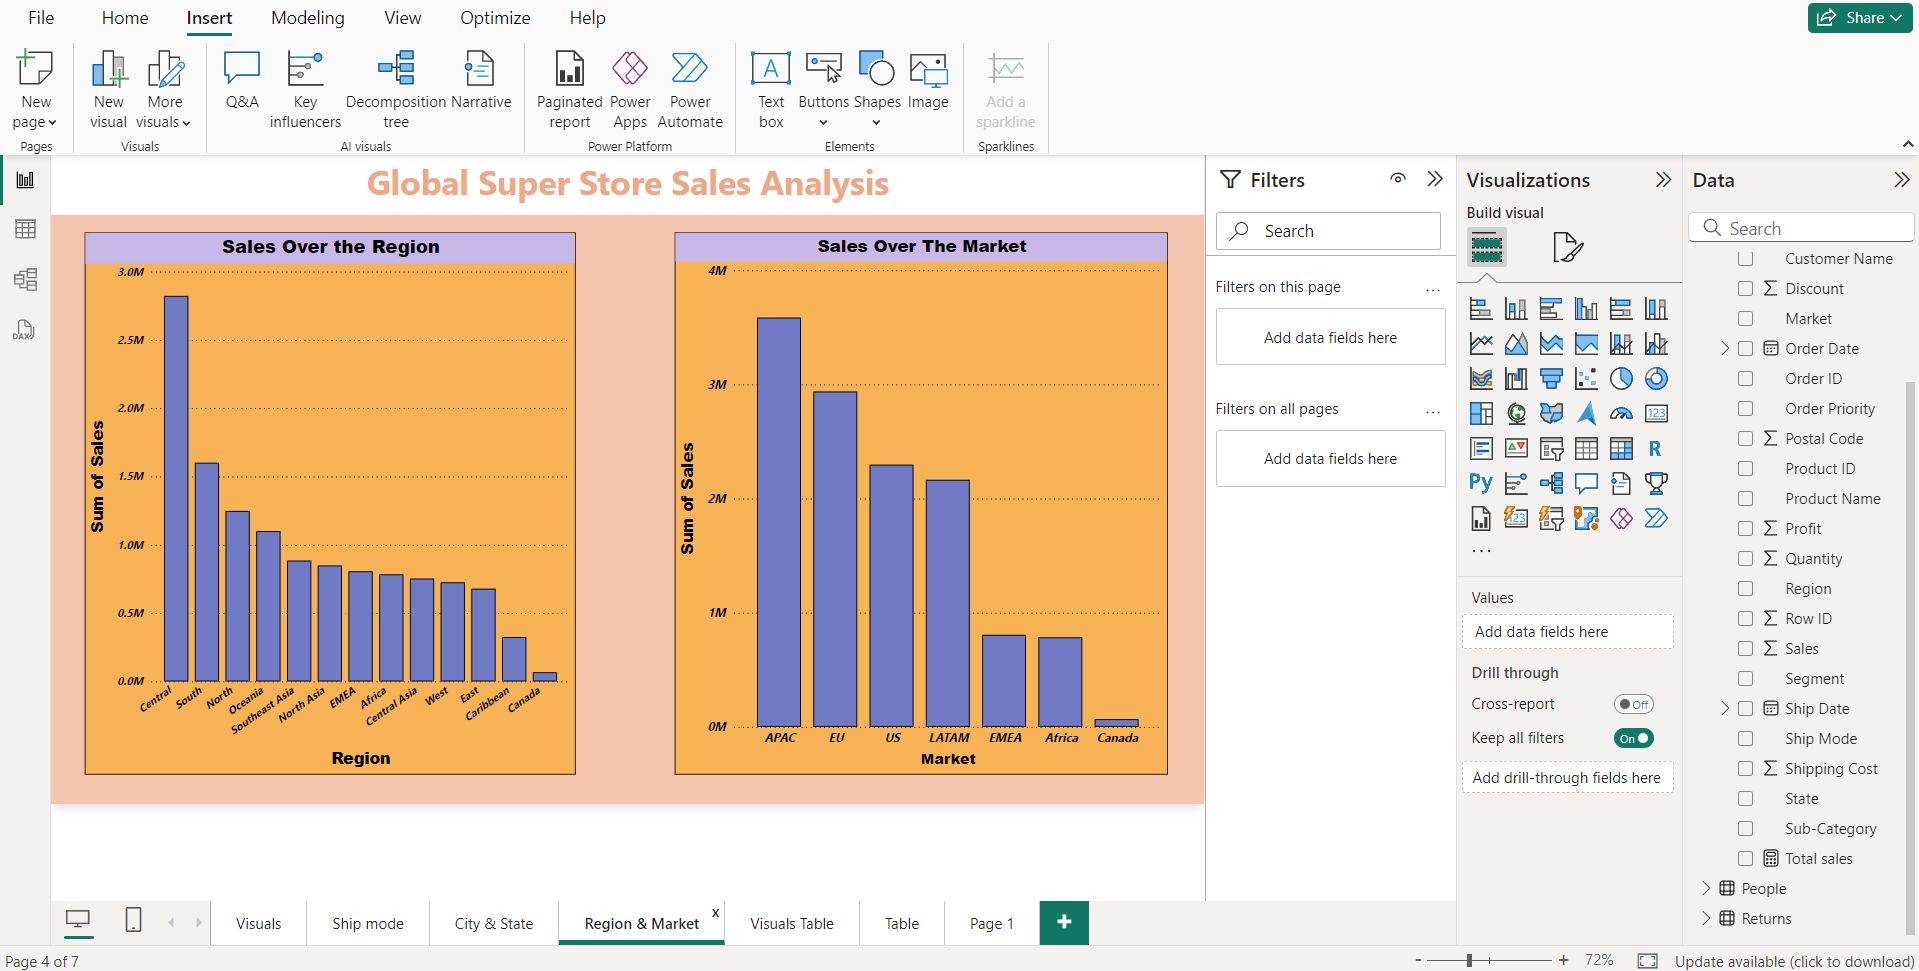

What the dashboard file says about the page in this screenshot:
{"tool":"powerbi","page":{"name":"Region & Market","canvas":[1280,720],"ordinal":3},"visuals":[{"type":"columnChart","title":"Sales Over the Region","fields":{"Y":["Sum(Orders.Sales)"],"Category":["Orders.Region"]},"box":[37.4,85.9,544.5,601.3],"z":0},{"type":"columnChart","title":"Sales Over The Market","fields":{"Y":["Sum(Orders.Sales)"],"Category":["Orders.Market"]},"box":[692.8,85.9,547.3,601.3],"z":1},{"type":"textbox","box":[0,0,1280.3,66.6],"z":2}]}

Visuals, with their boxes on the page's 1280x720 design canvas (x1, y1, x2, y2). These are canvas units, not pixel positions in the 1919x971 screenshot, which may show the page scaled, cropped or inside an application window:
"Sales Over the Region" columnChart: (37,86,582,687)
"Sales Over The Market" columnChart: (693,86,1240,687)
textbox: (0,0,1280,67)
